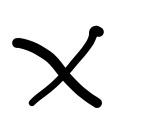mult: (13, 25, 103, 108)
